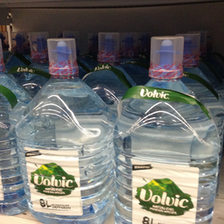water: (111, 33, 222, 223), (15, 37, 114, 224)
